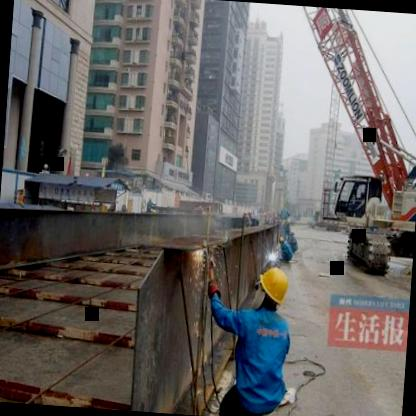helmet: (254, 263, 291, 310)
